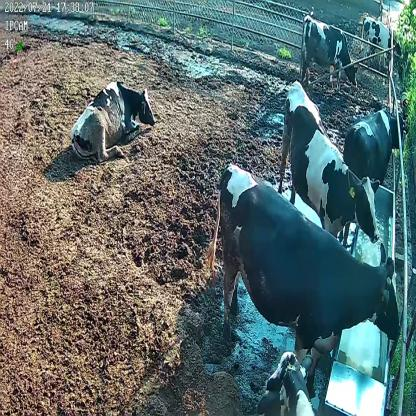cow: (207, 161, 401, 387), (280, 81, 380, 249), (70, 77, 156, 162), (299, 13, 359, 91), (346, 106, 405, 182), (361, 13, 404, 66)
